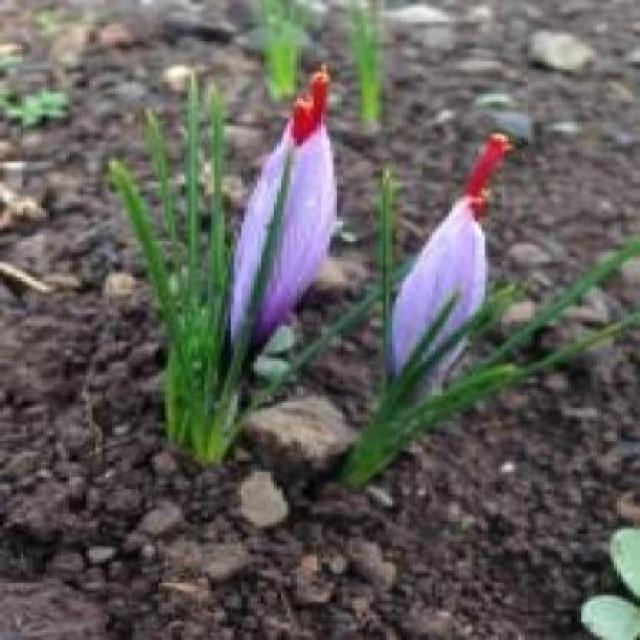Flower: (201, 102, 336, 381), (379, 198, 493, 440)
stigma: (450, 130, 524, 204), (278, 58, 335, 148)
